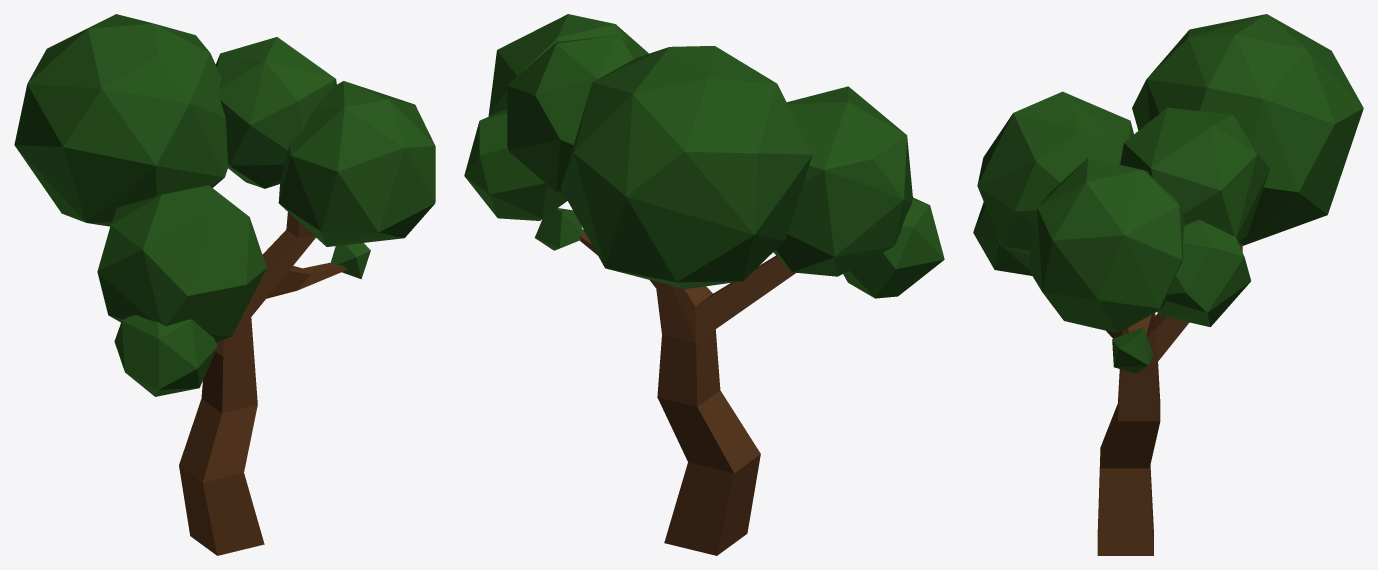
File: tree.fbx
3 views of the same model, side by side, from view 1: azimuth 30°, elevation 25°; view 2: azimuth 150°, elevation 25°; view 3: azimuth 270°, elevation 25° (orthographic). The views are drawn at different scales.
Parts seen in each view (by area): view 1: leaves, stick; view 2: leaves, stick; view 3: leaves, stick.
Part boxes in pixels (box(x1,y1,x2,y2)): leaves: box(14, 14, 435, 396); stick: box(179, 212, 347, 555); leaves: box(464, 14, 944, 298); stick: box(579, 229, 795, 555); leaves: box(973, 14, 1363, 373); stick: box(1097, 244, 1242, 555).
Size of the model in its own units: 1497 by 1957 by 1389.
2 materials, 2 textured.
